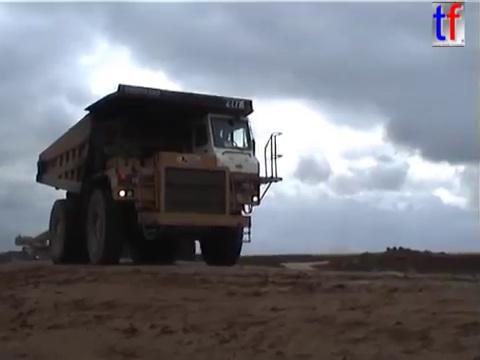excavator: (13, 218, 100, 263)
truck: (33, 81, 287, 268), (84, 177, 211, 265)
